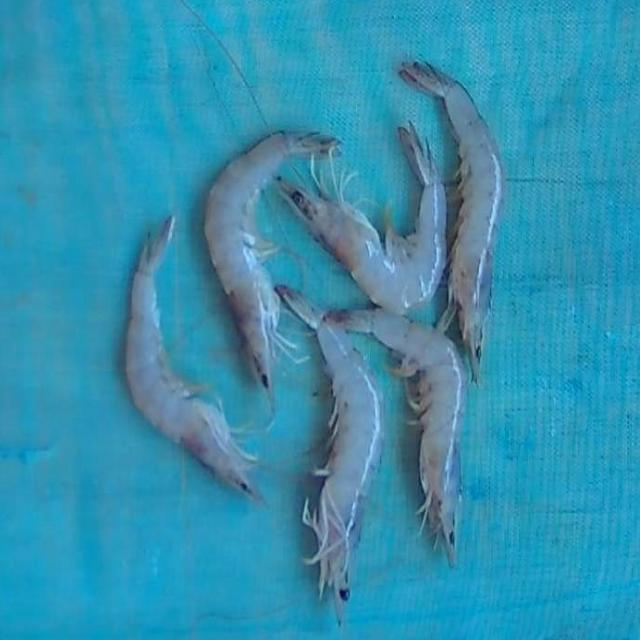shrimp: (126, 216, 258, 498), (204, 132, 338, 399), (277, 285, 383, 622), (326, 309, 466, 563), (400, 62, 505, 381), (279, 123, 448, 314)
